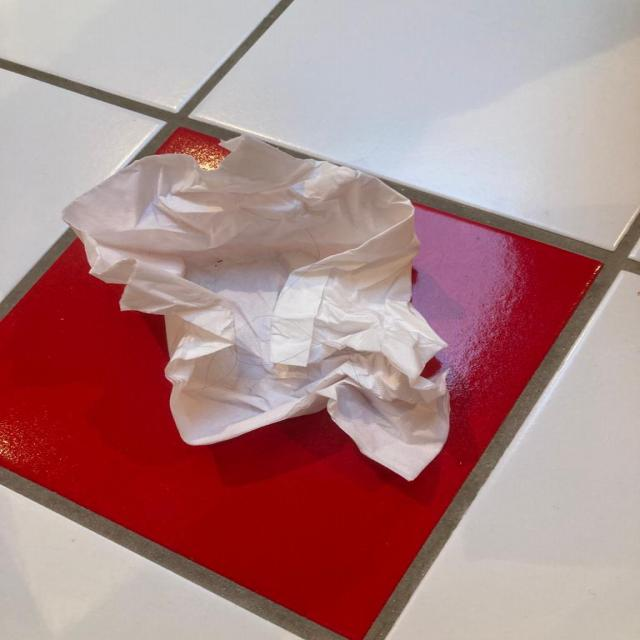kitchen paper: (63, 131, 457, 485)
